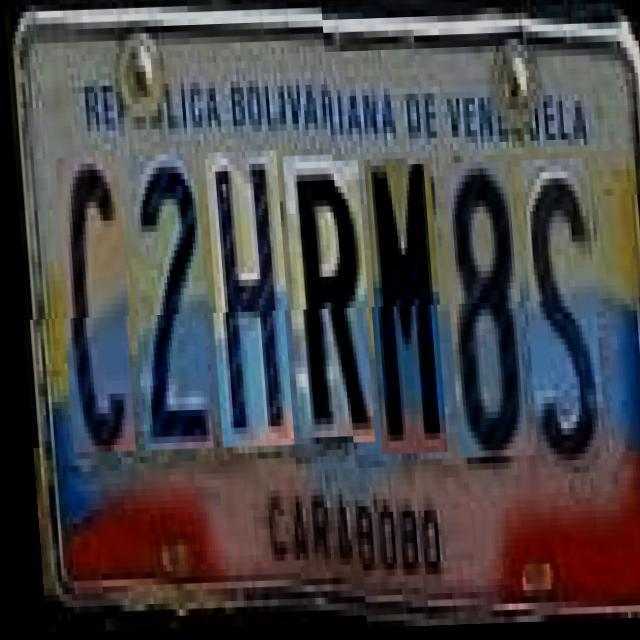2: (124, 161, 210, 457)
8: (439, 165, 525, 461)
C: (54, 163, 132, 460)
H: (202, 158, 292, 456)
M: (361, 161, 443, 457)
R: (280, 162, 372, 446)
S: (517, 163, 603, 472)
